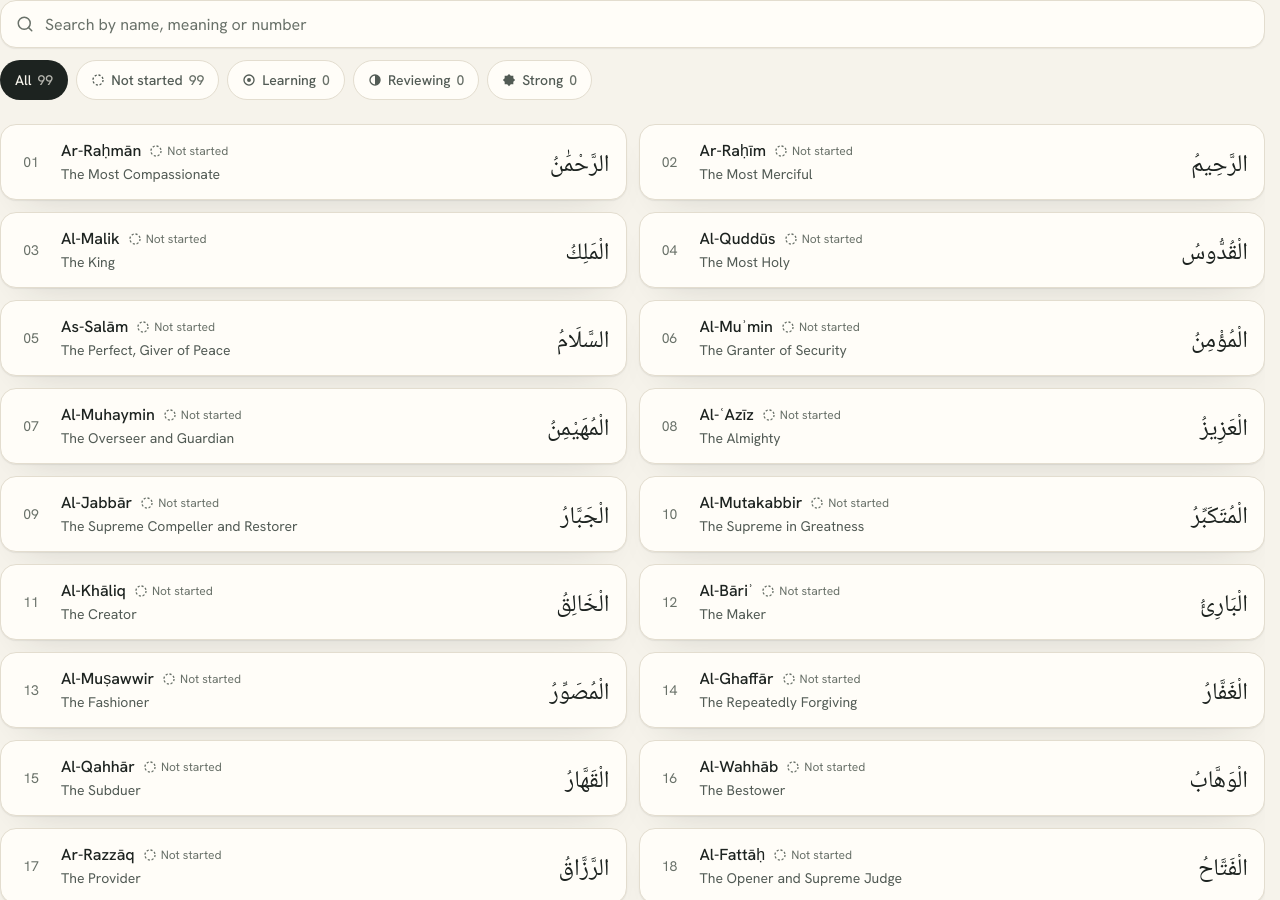
it: explore › shows a helpful empty state and a way back
The image size is (1280, 900).
Type "zzzz" into the search field at (632, 24), box [0, 0, 1265, 48]
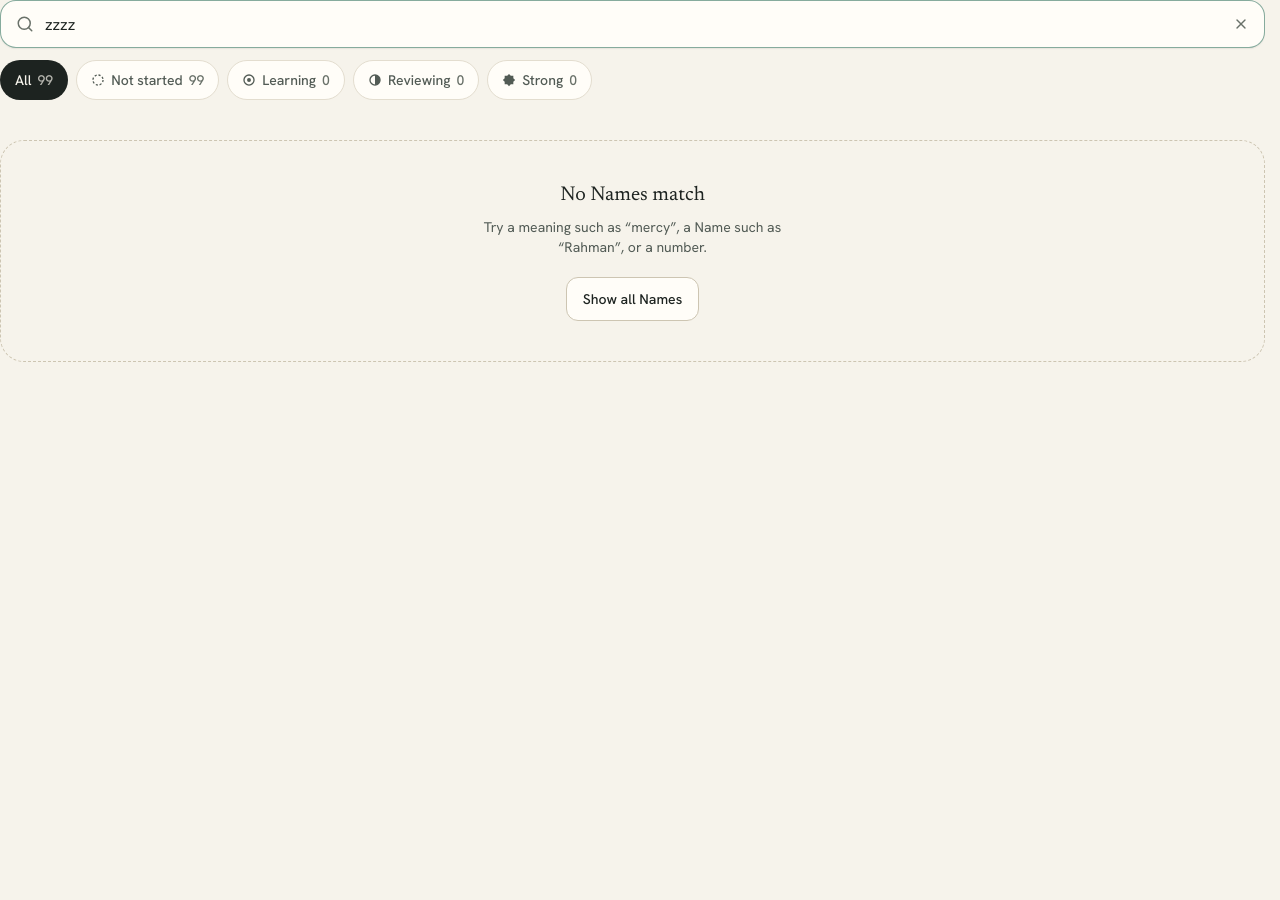
Now the text "No Names match" is shown, box [560, 185, 705, 205]
Click the button "Show all Names" at (633, 299), box [566, 277, 699, 321]
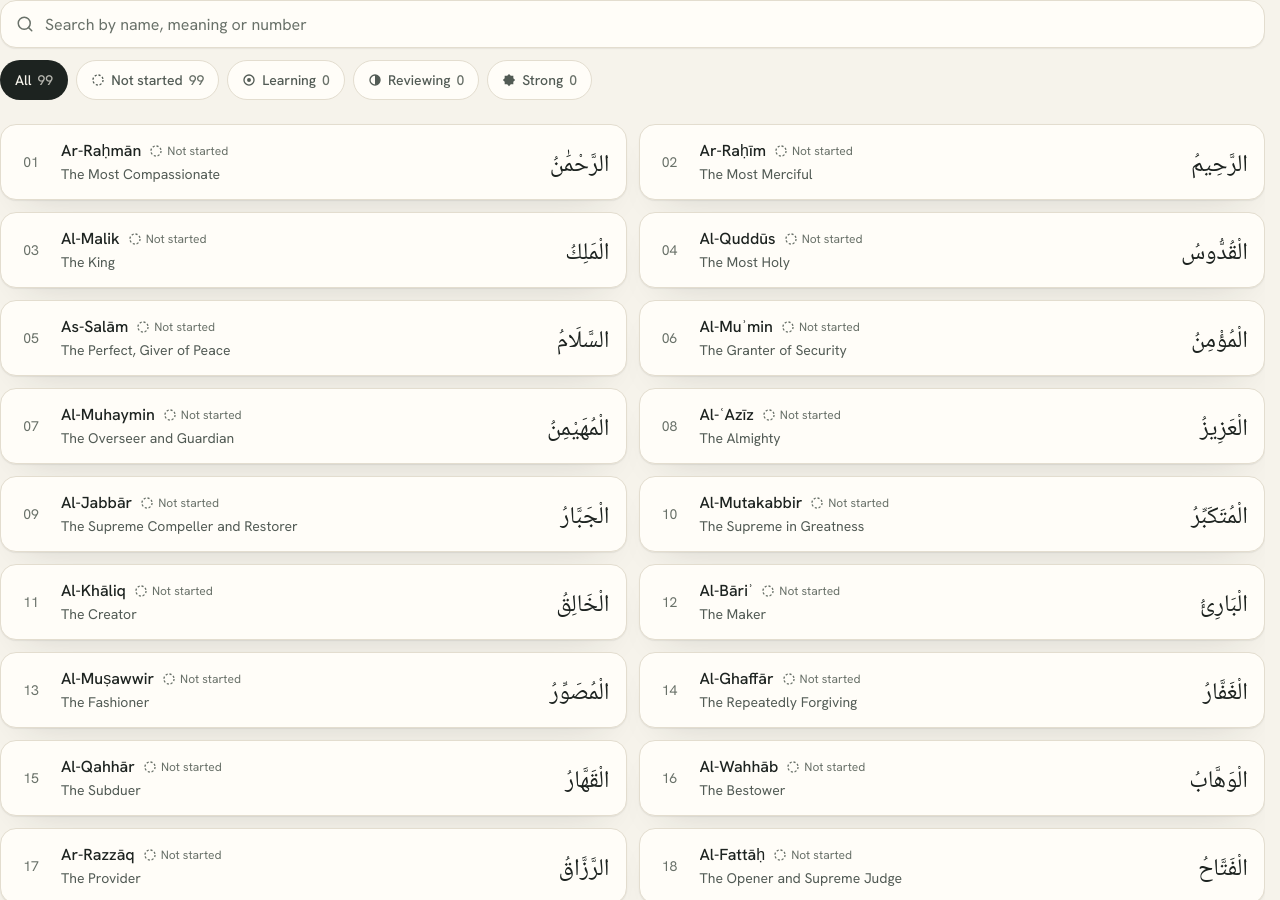
Now the number of list items is 99
